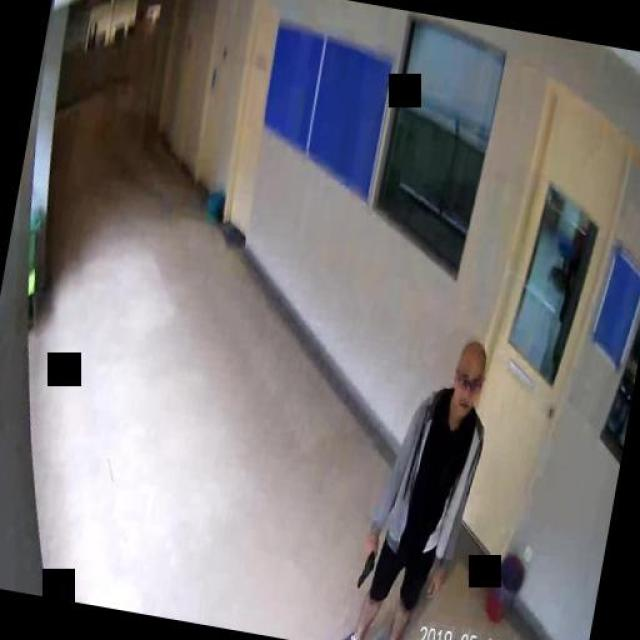gun: (353, 539, 378, 589)
